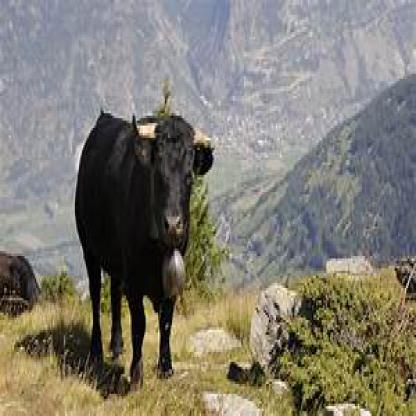cow: (75, 106, 215, 381)
